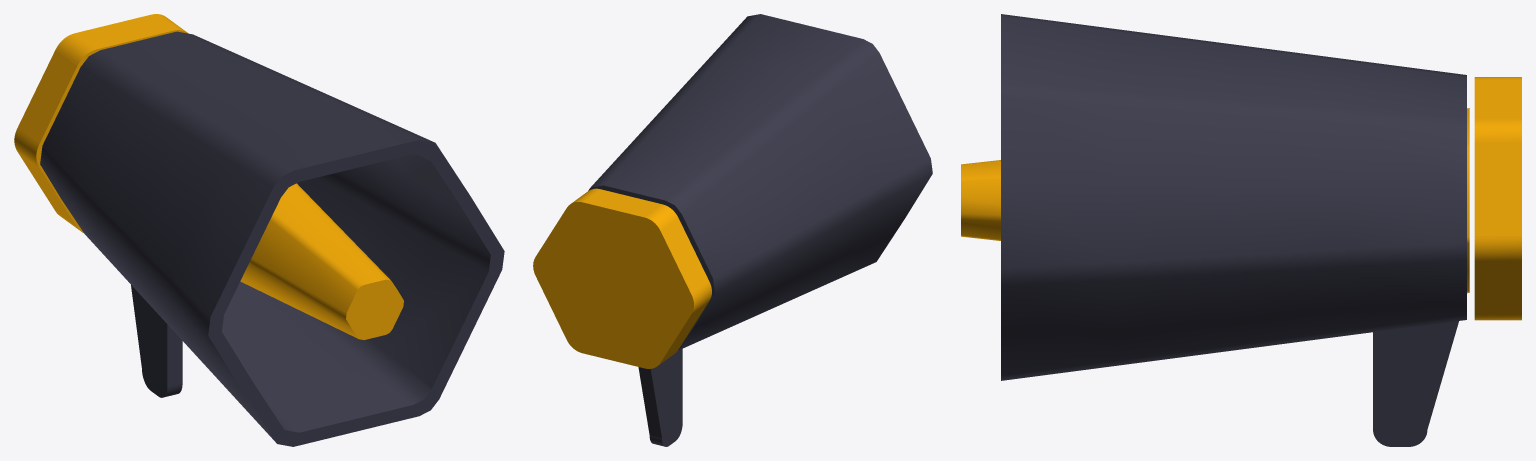
Rendered from megaphone.gltf.
The picture shows the model from 3 angles, left to right: view 1: azimuth 30°, elevation 25°; view 2: azimuth 150°, elevation 25°; view 3: azimuth 270°, elevation 25°; orthographic projection. The views are drawn at different scales.
Visible parts, largest first — view 1: Loft (×2), Loft.1, Extrude back cap, Handle; view 2: Loft, Extrude back cap, Handle; view 3: Loft (×2), Extrude back cap, Handle.
Part boxes in pixels (box(x1,y1,x2,y2)): Loft (×2): box(40, 31, 504, 446); Loft.1: box(222, 154, 490, 432); Extrude back cap: box(14, 14, 188, 232); Handle: box(131, 285, 182, 397); Loft: box(588, 14, 932, 350); Extrude back cap: box(533, 188, 711, 368); Handle: box(638, 349, 682, 446); Loft (×2): box(961, 14, 1469, 380); Extrude back cap: box(1474, 77, 1521, 320); Handle: box(1373, 293, 1467, 446).
Size of the model in its own units: 389 by 465 by 595.
